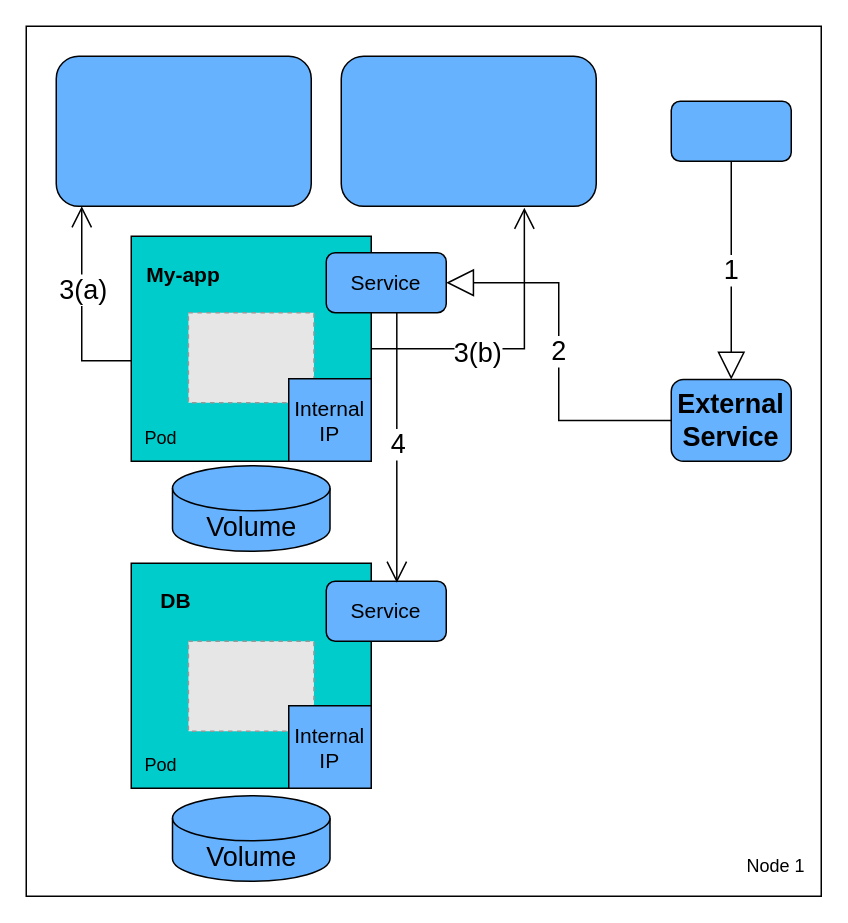
This 848x923 diagram has some shape labels left out. Grey dashed boxes stand in for pictures. The centre of each missing label's shape, as x and y in pixels:
"ConfigMap DB_URl = mongo-db" goes at pixel 468 130.
"Ingress" goes at pixel 730 130.
"Secret DB_USER = mongodb-user DB_PWD = mongodb-pass" goes at pixel 183 130.
